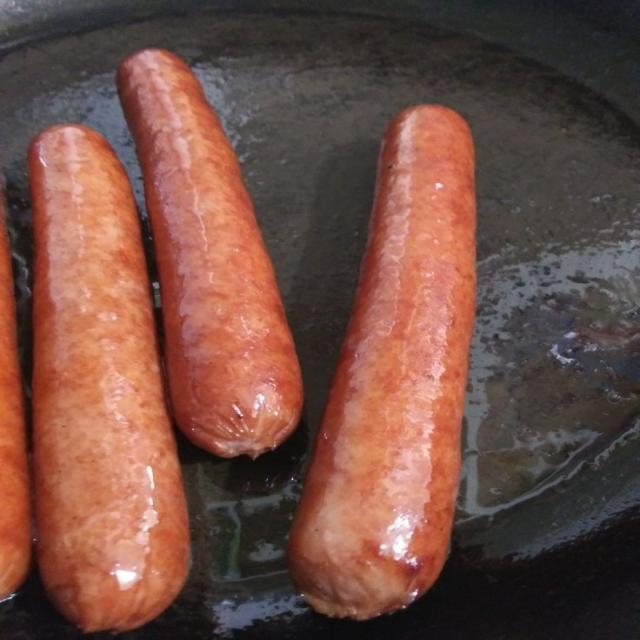sausage: (289, 106, 475, 619), (29, 125, 188, 632), (117, 49, 302, 457), (0, 194, 31, 599)
